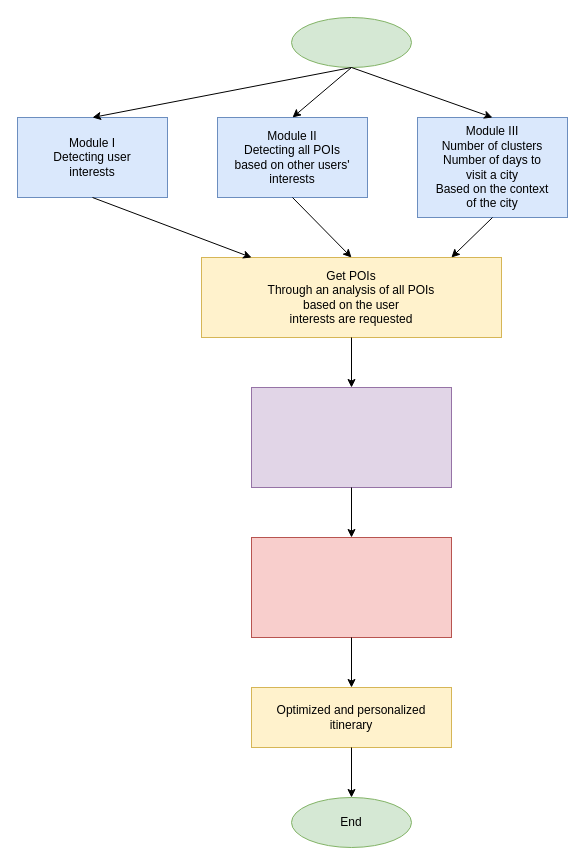
The diagram is 585 pixels wide and 865 high, and some of its shapes have lost their labels. Each missing label, with the centre of its shape:
Module III K-means Clustering POIs in geographical sectors: point 351,437
Module IV GA: Optimizing itineraries: point 351,587
Start: point 351,42
